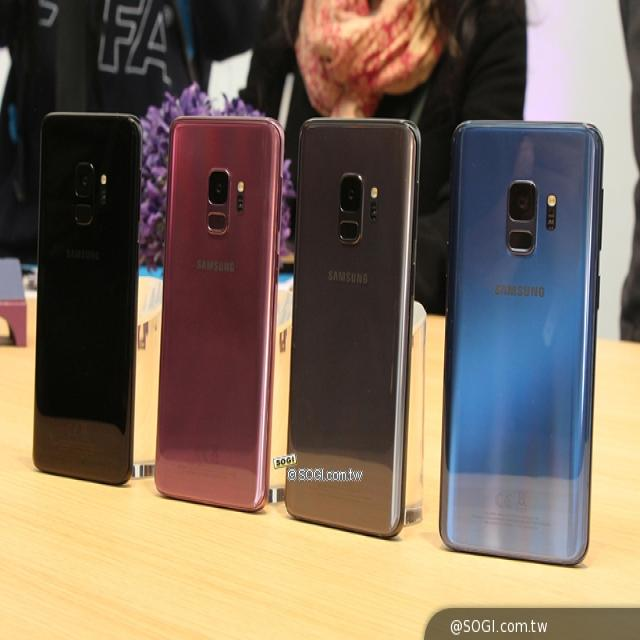mobile phone: (429, 86, 622, 576), (278, 92, 427, 546), (150, 92, 284, 545), (31, 99, 146, 567)
